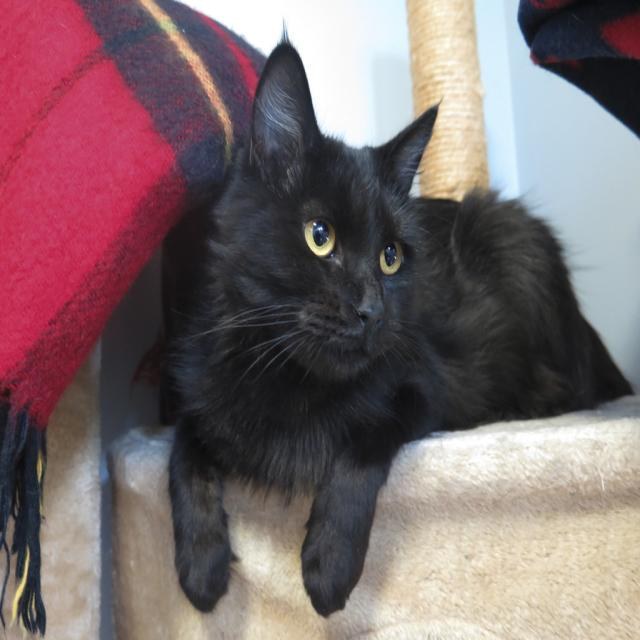Cat: (156, 16, 633, 619)
